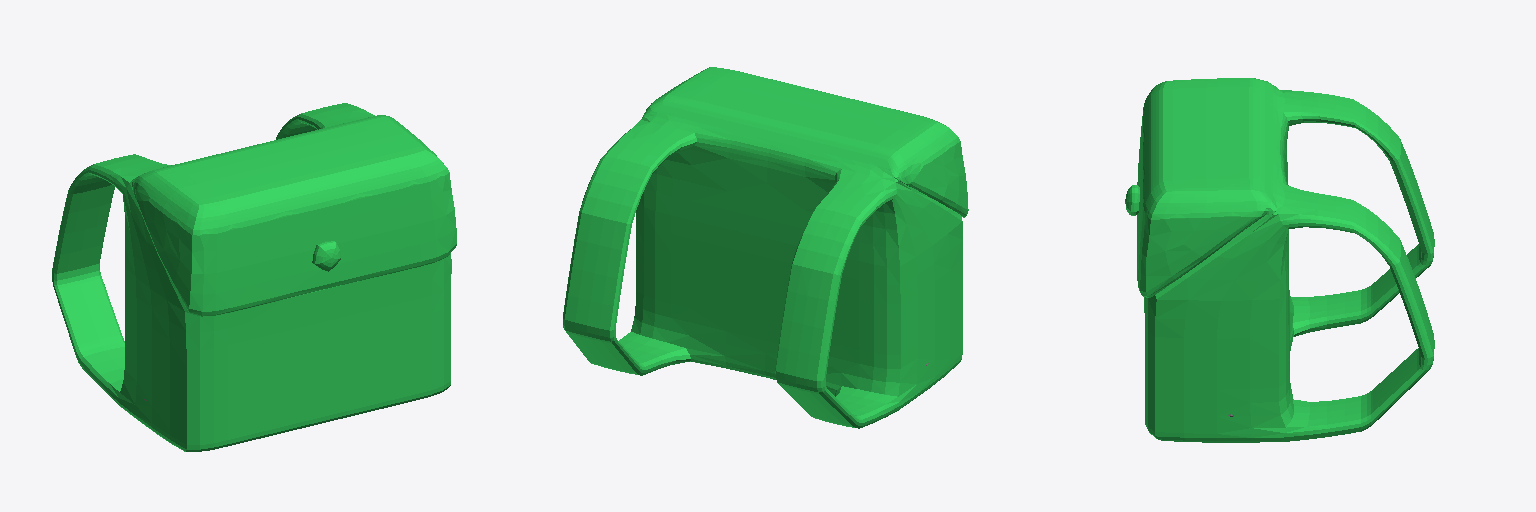
Rendered from backpack.obj.
The picture shows the model from 3 angles: view 1: azimuth 30°, elevation 25°; view 2: azimuth 150°, elevation 25°; view 3: azimuth 270°, elevation 25°; orthographic projection.
Visible parts, largest first — view 1: polySurface5; view 2: polySurface5; view 3: polySurface5.
Part boxes in pixels (left/top/right/bottom): polySurface5: left=52, top=103, right=456, bottom=451; polySurface5: left=563, top=67, right=968, bottom=428; polySurface5: left=1125, top=78, right=1434, bottom=442.
Bounding box in the file's own units: 3.9 × 3.36 × 3.82.